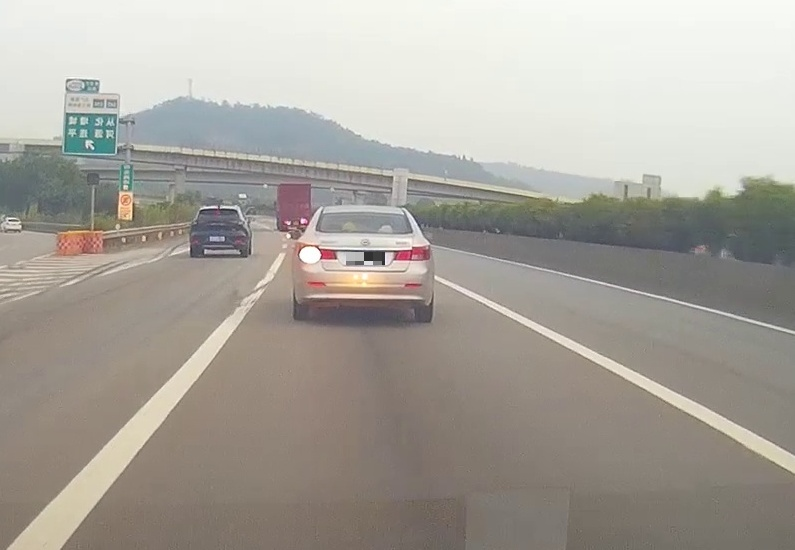L_light: (296, 243, 338, 260), (192, 221, 207, 225)
R_light: (392, 245, 431, 261), (229, 220, 244, 225)
T_light: (353, 230, 377, 233), (215, 209, 223, 211)
day-left: (291, 205, 435, 323)
day-no: (189, 206, 248, 257)
plate_1: (346, 252, 385, 265)
